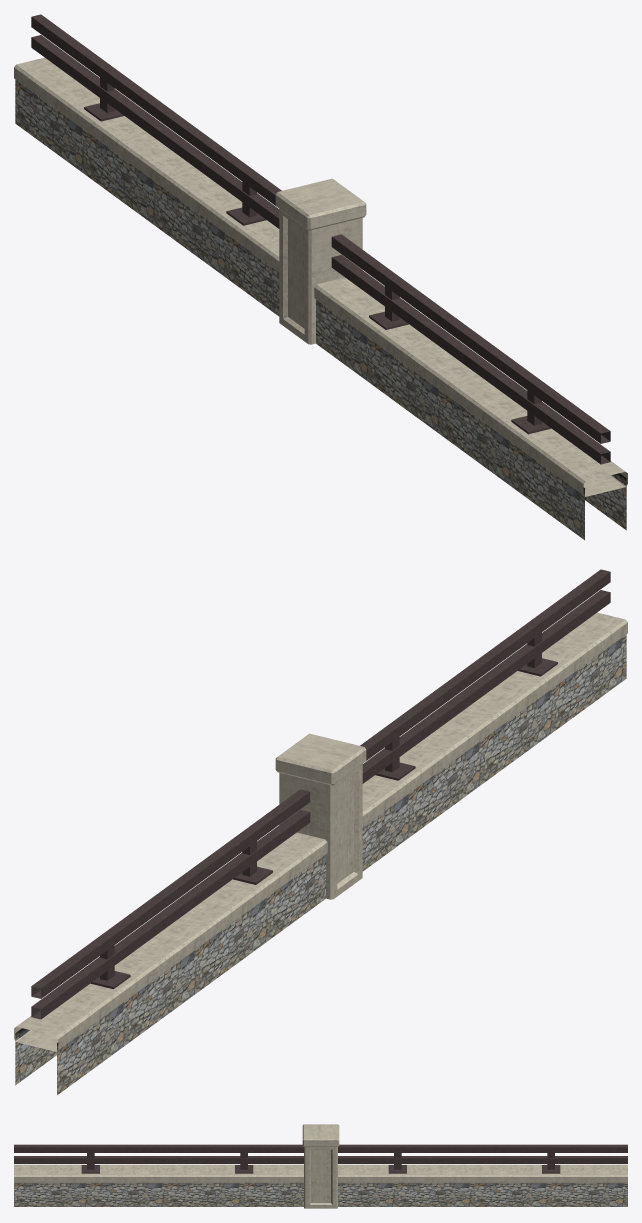
File: GSDRailing7-10m.FBX
3 renders of one model, top to bottom at view 1: azimuth 30°, elevation 25°; view 2: azimuth 150°, elevation 25°; view 3: azimuth 270°, elevation 25°, orthographic. The views are drawn at different scales.
Visible parts, largest first — view 1: GSDRailing7-10m; view 2: GSDRailing7-10m; view 3: GSDRailing7-10m.
Part boxes in pixels (left/top/right/bottom): GSDRailing7-10m: left=14, top=14, right=627, bottom=540; GSDRailing7-10m: left=14, top=569, right=627, bottom=1095; GSDRailing7-10m: left=14, top=1124, right=627, bottom=1208.
Size of the model in its own units: 0.6 by 1.26 by 10.
